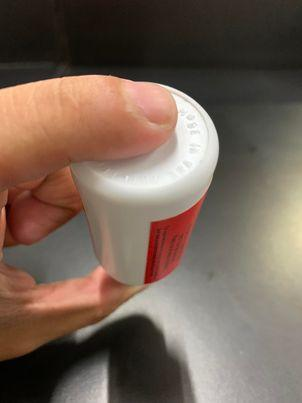-Bottle-: (72, 82, 219, 286)
